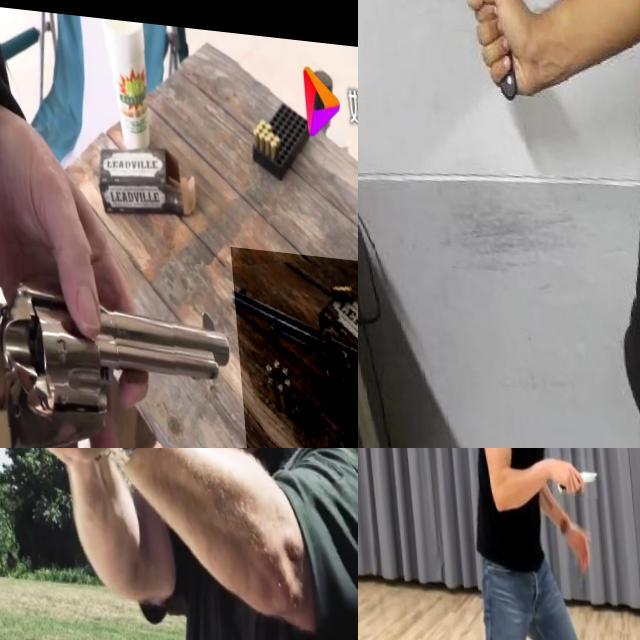-: (452, 0, 506, 57), (546, 448, 596, 492)
gun-knife-thesis - v11 Yolov5 augmented: (0, 232, 249, 448), (227, 237, 358, 448), (0, 448, 104, 544)
